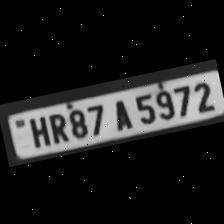2: (186, 76, 217, 114)
5: (128, 88, 157, 125)
7: (81, 99, 109, 136), (168, 82, 194, 118)
8: (63, 104, 89, 140)
9: (150, 86, 176, 120)
A: (104, 94, 135, 132)
H: (23, 112, 50, 148)
R: (42, 108, 68, 144)
